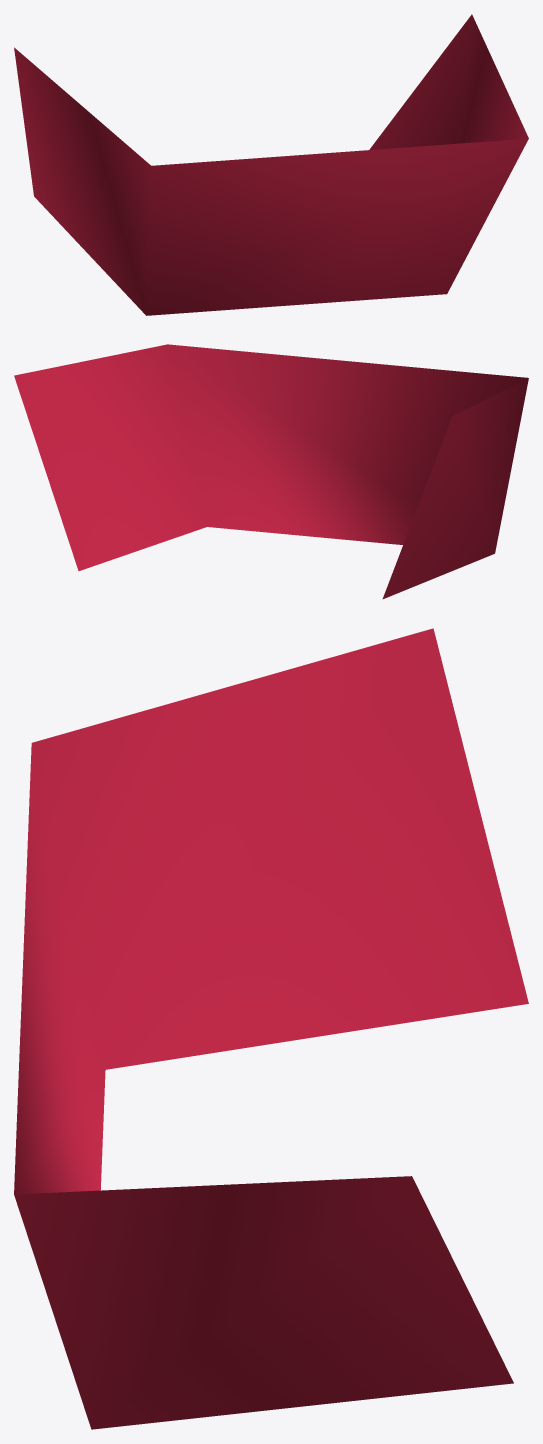
The picture shows the model from 3 angles, top to bottom: view 1: azimuth 30°, elevation 25°; view 2: azimuth 150°, elevation 25°; view 3: azimuth 270°, elevation 25°; orthographic projection. The views are drawn at different scales.
Visible parts, largest first — view 1: ef_500; view 2: ef_500; view 3: ef_500.
Boxes of the visible parts, x1=… form: ef_500: x1=14, y1=14, x2=528, y2=315; ef_500: x1=14, y1=344, x2=528, y2=599; ef_500: x1=14, y1=628, x2=528, y2=1429.
Bounding box in the file's own units: 0.7338 × 0.408 × 0.3881.
1 material, 1 textured.
